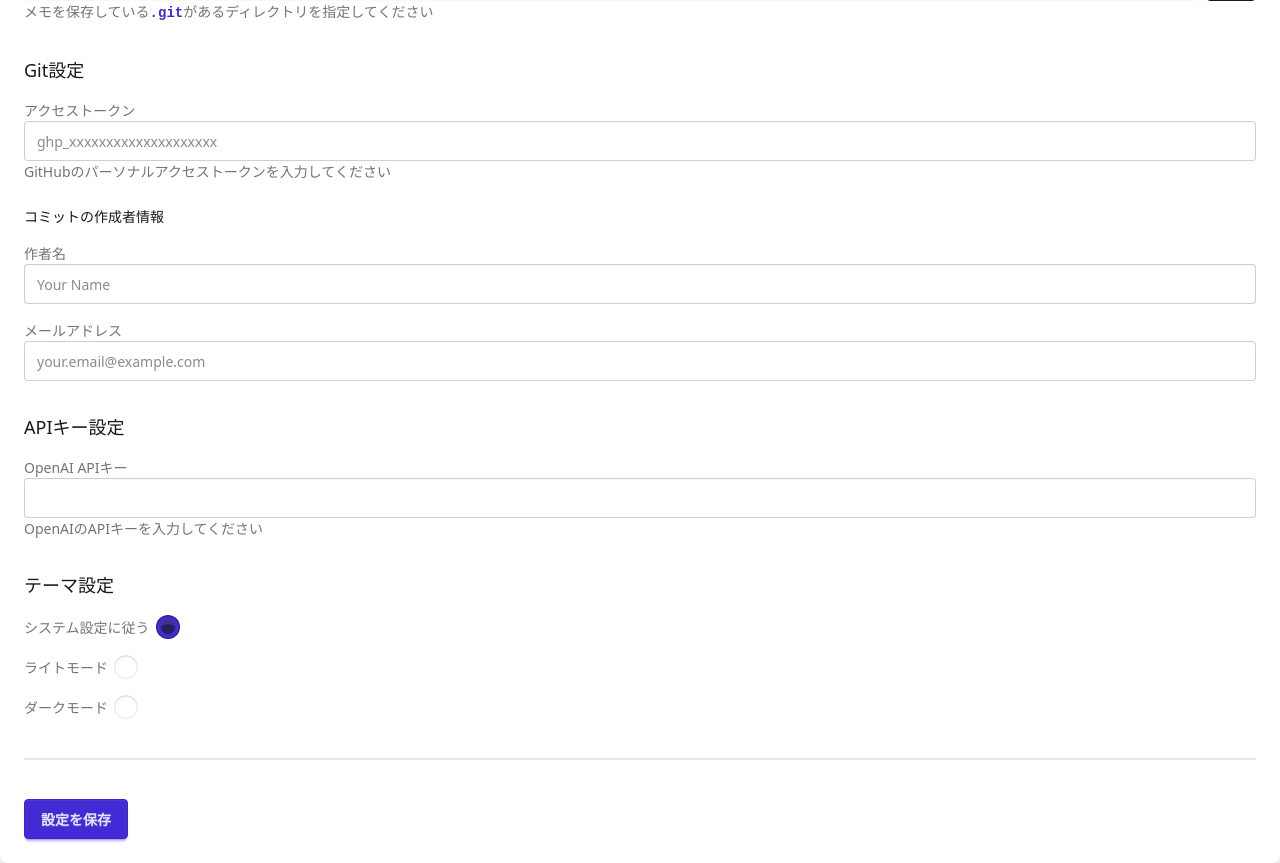
Test: AppSettings › 設定保存 › 保存中はローディング状態が表示される
(page scrolled)
保存ボタンをクリック
Click the button "設定を保存": (76, 819) [24,799,128,839]
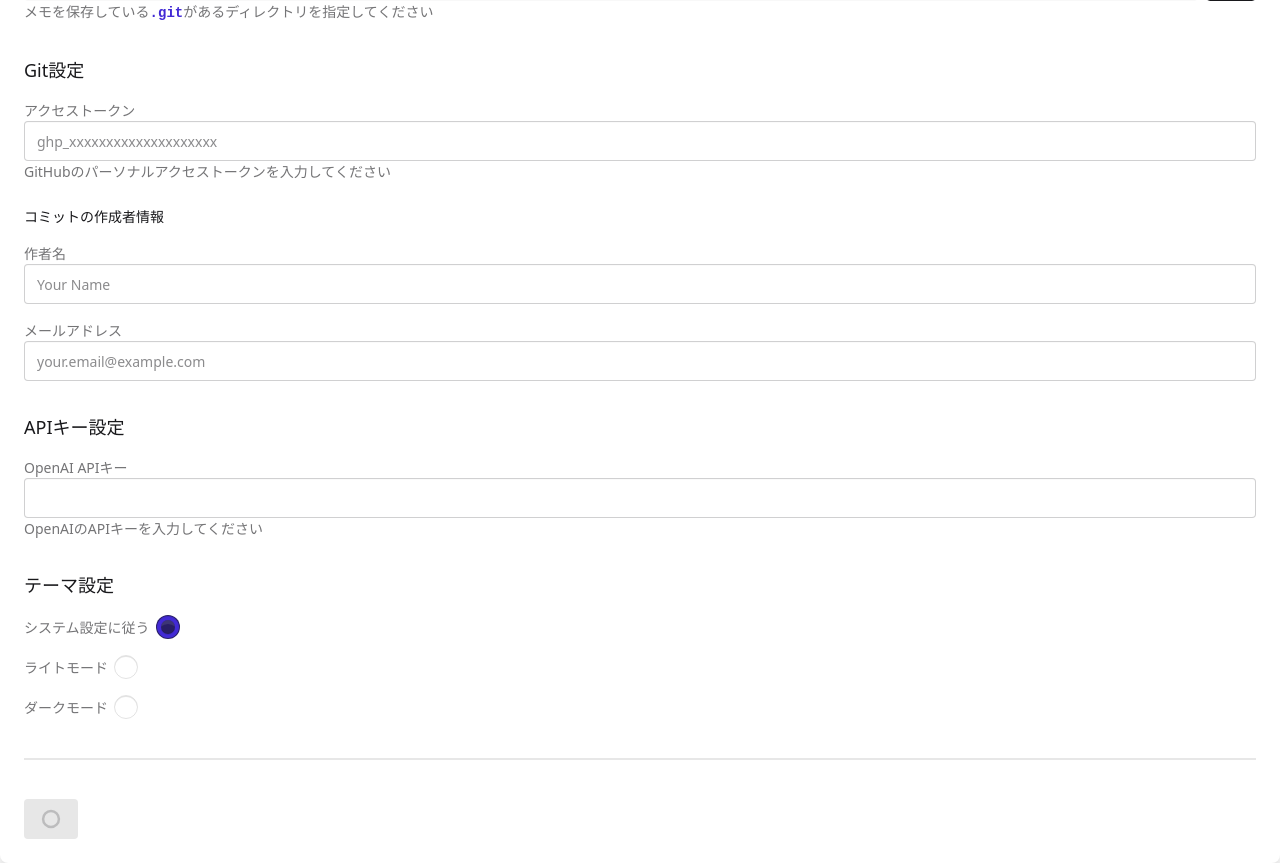
Check: the button named "設定を保存" is disabled, box [24,799,78,839]
Check: the element with class "loading-spinner" is shown, box [41,809,61,829]
